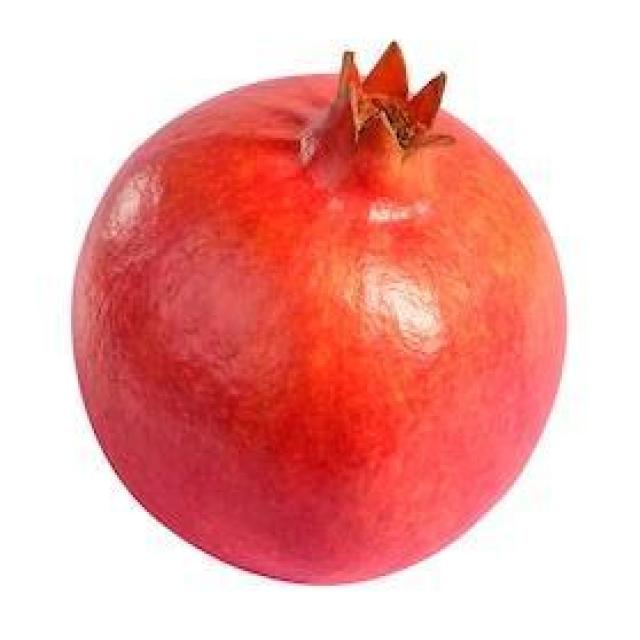Pomegranate: (69, 38, 572, 587)
